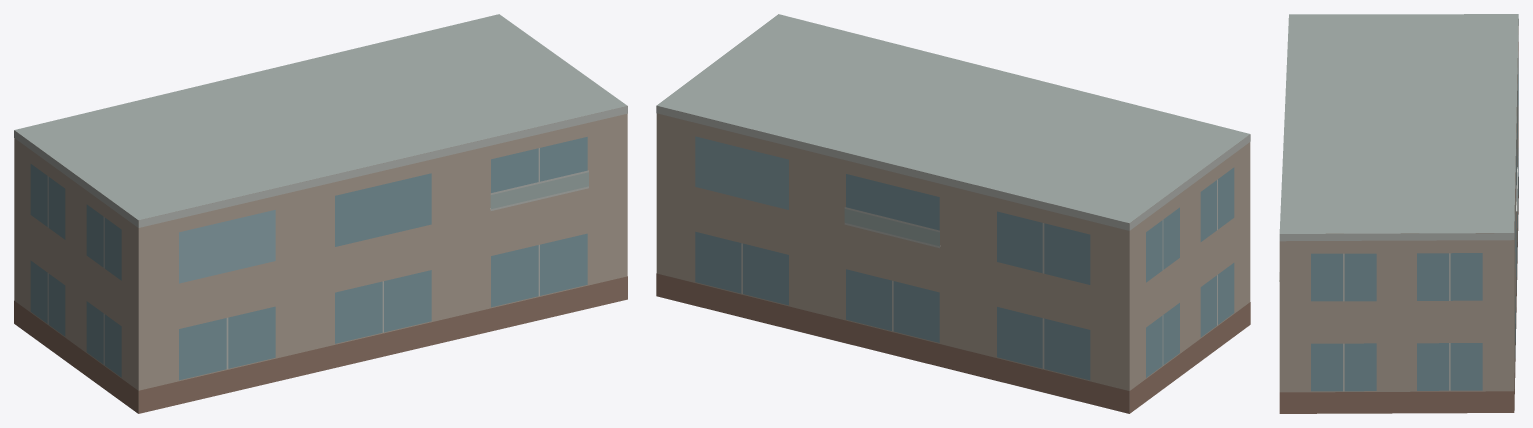
The model's file is survey-upis-32661154.glb.
3 renders of one model, left to right at view 1: azimuth 30°, elevation 25°; view 2: azimuth 150°, elevation 25°; view 3: azimuth 270°, elevation 25°, orthographic. The views are drawn at different scales.
Parts seen in each view (by area): view 1: survey-upis-32661154.tmp; view 2: survey-upis-32661154.tmp; view 3: survey-upis-32661154.tmp.
Boxes of the visible parts, <box> form: survey-upis-32661154.tmp: <box>14,14,627,413</box>; survey-upis-32661154.tmp: <box>656,14,1250,413</box>; survey-upis-32661154.tmp: <box>1279,14,1518,413</box>.
Bounding box in the file's own units: 16.01 × 6.1 × 7.37.
